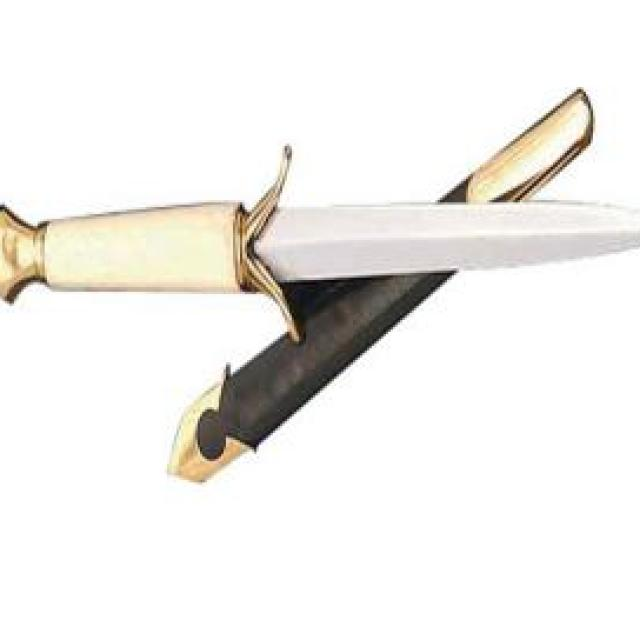knife: (294, 167, 640, 304)
